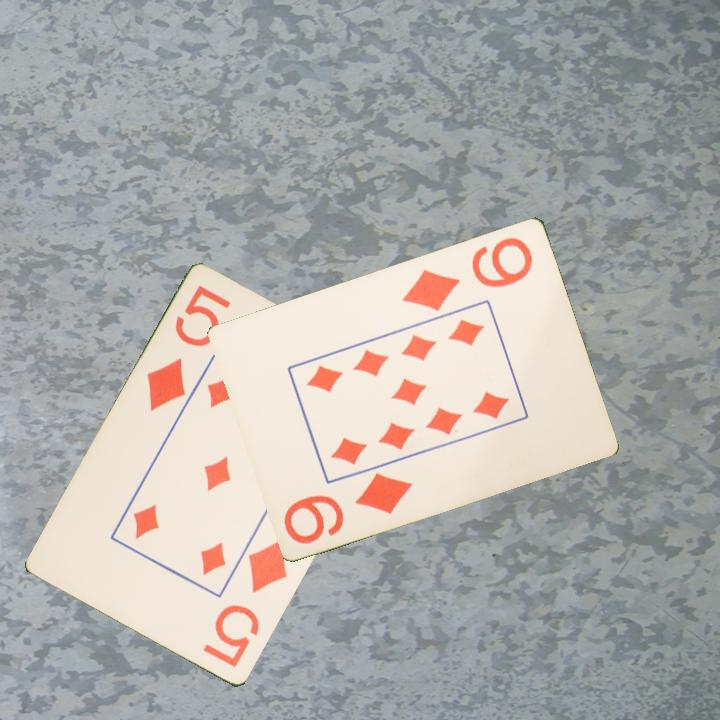5d: (200, 535, 291, 671), (143, 282, 234, 415)
9d: (398, 233, 536, 314), (280, 468, 416, 547)
